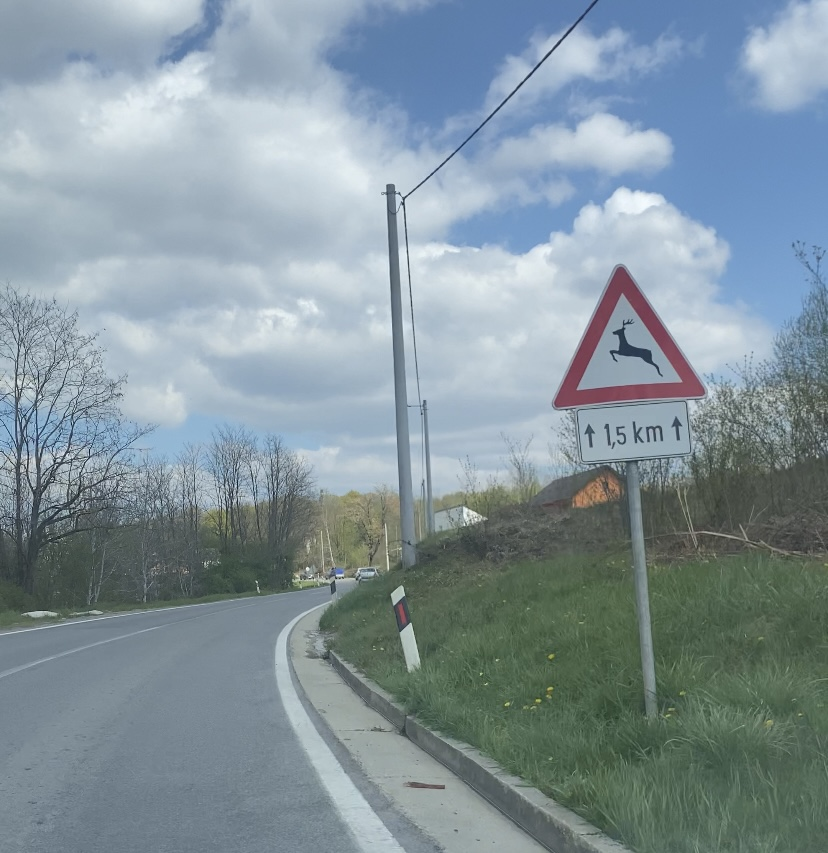Divljač na cesti: (552, 264, 708, 410)
